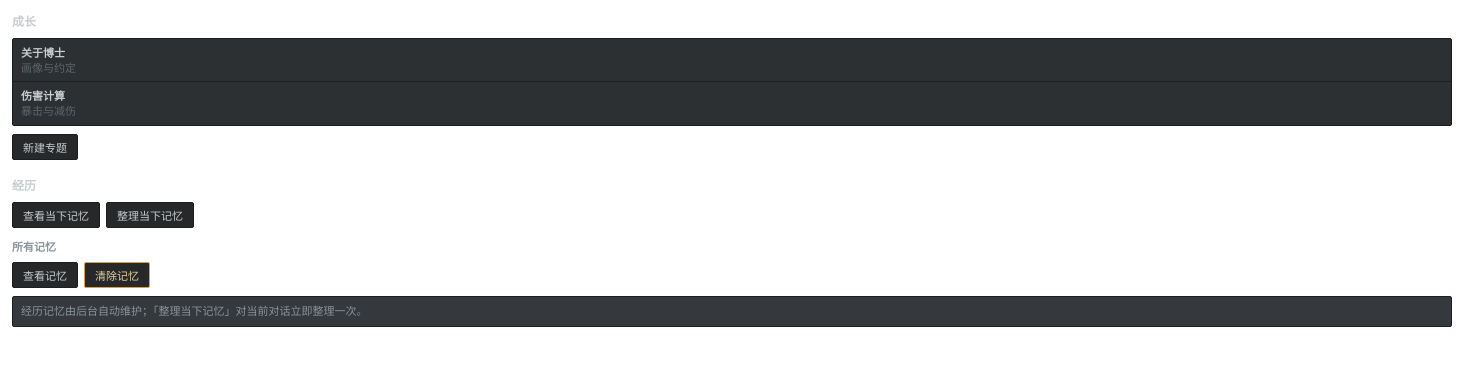
Test: SettingsMemory（结构定稿） › 整理当下记忆 → memory_tidy + 反馈文案
What coordinates should you click on to do the following:
click the button "整理当下记忆"
I would click on:
 (150, 215)
Its box is [106,202,194,228].
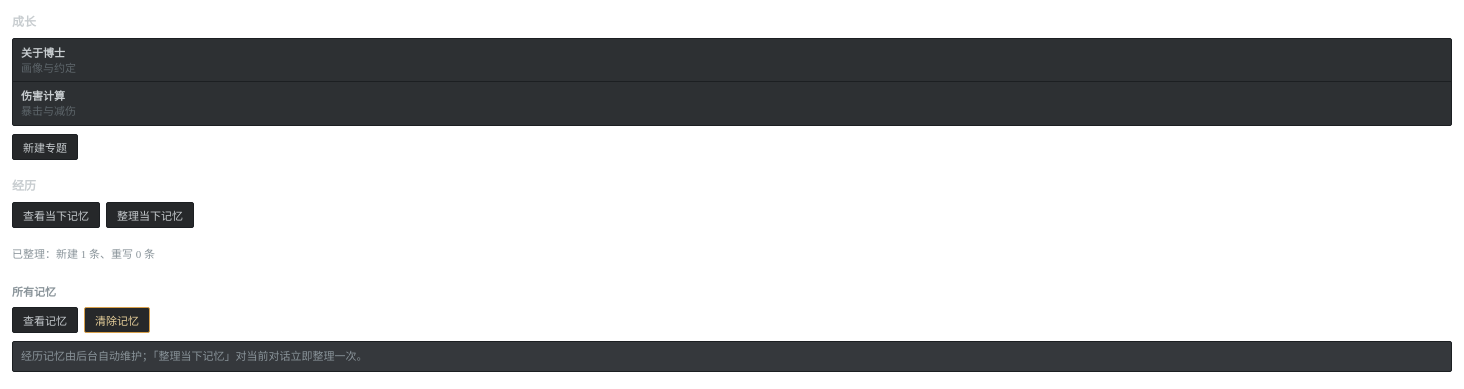
Check: the text "已整理：新建 1 条、重写 0 条" is shown, box [12,248,155,260]
